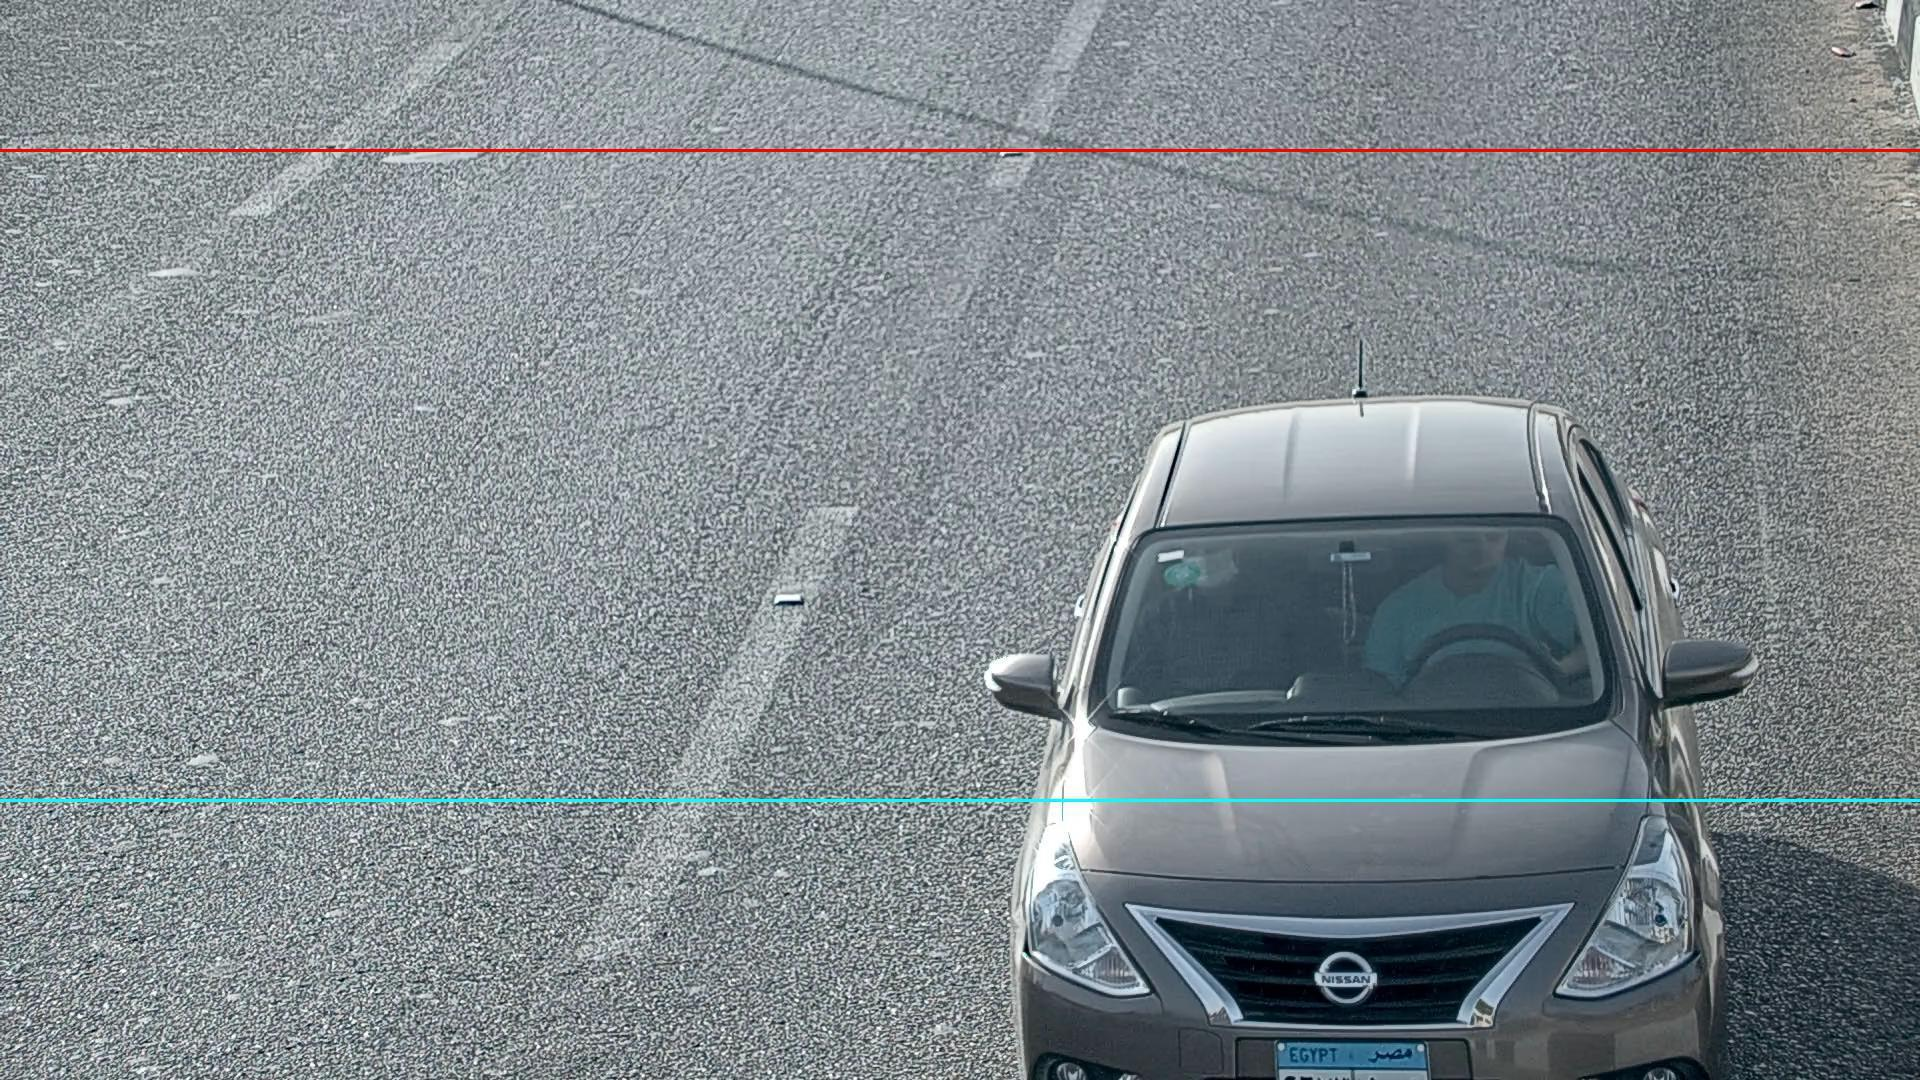windshield: (1071, 487, 1647, 753)
